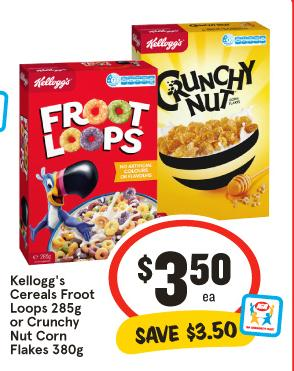description_block: (3, 268, 103, 369)
price_main: (119, 232, 252, 315)
product_image_block: (11, 13, 279, 228)
promo_text_block: (108, 314, 250, 355)
